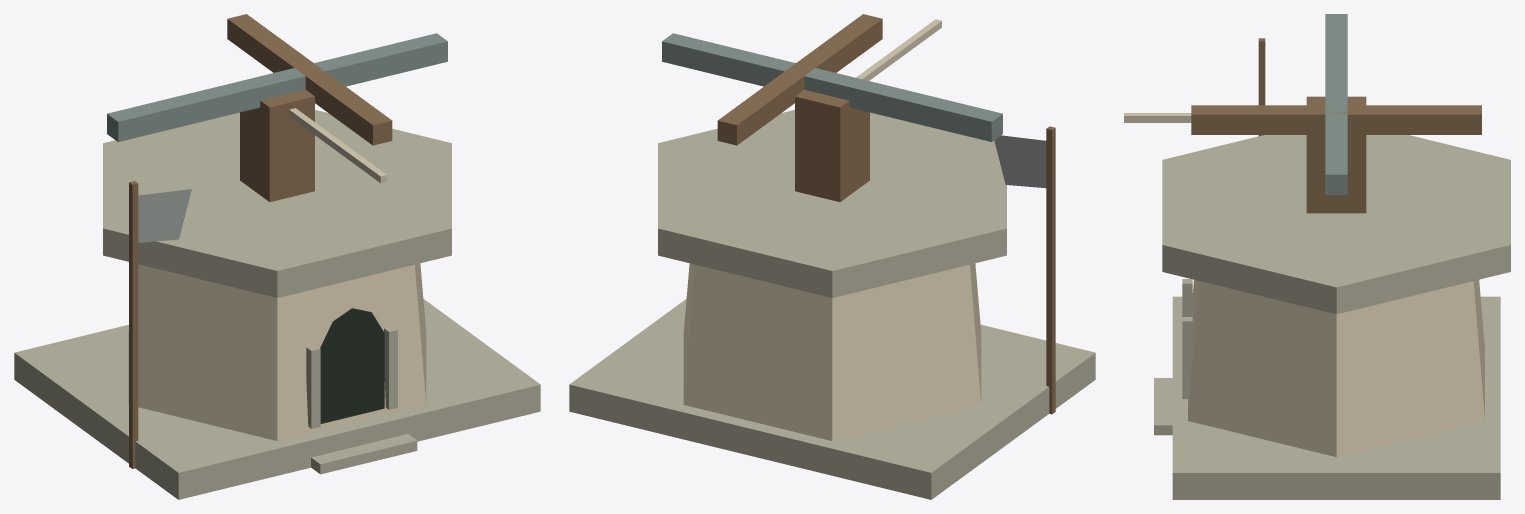
The model's file is fort-lance.glb.
3 renders of one model, left to right at view 1: azimuth 30°, elevation 25°; view 2: azimuth 150°, elevation 25°; view 3: azimuth 270°, elevation 25°, orthographic.
Visible parts, largest first — view 1: Building; view 2: Building; view 3: Building.
Part boxes in pixels (x1=…): Building: x1=14, y1=14, x2=540, y2=499; Building: x1=569, y1=14, x2=1095, y2=499; Building: x1=1124, y1=14, x2=1510, y2=499.
Size of the model in its own units: 56.45 by 47 by 51.88.
